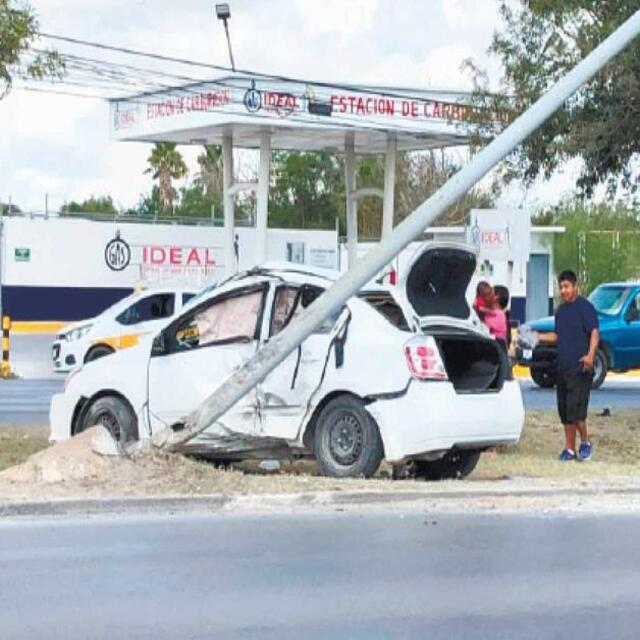Inclined Pole: (133, 6, 640, 456)
